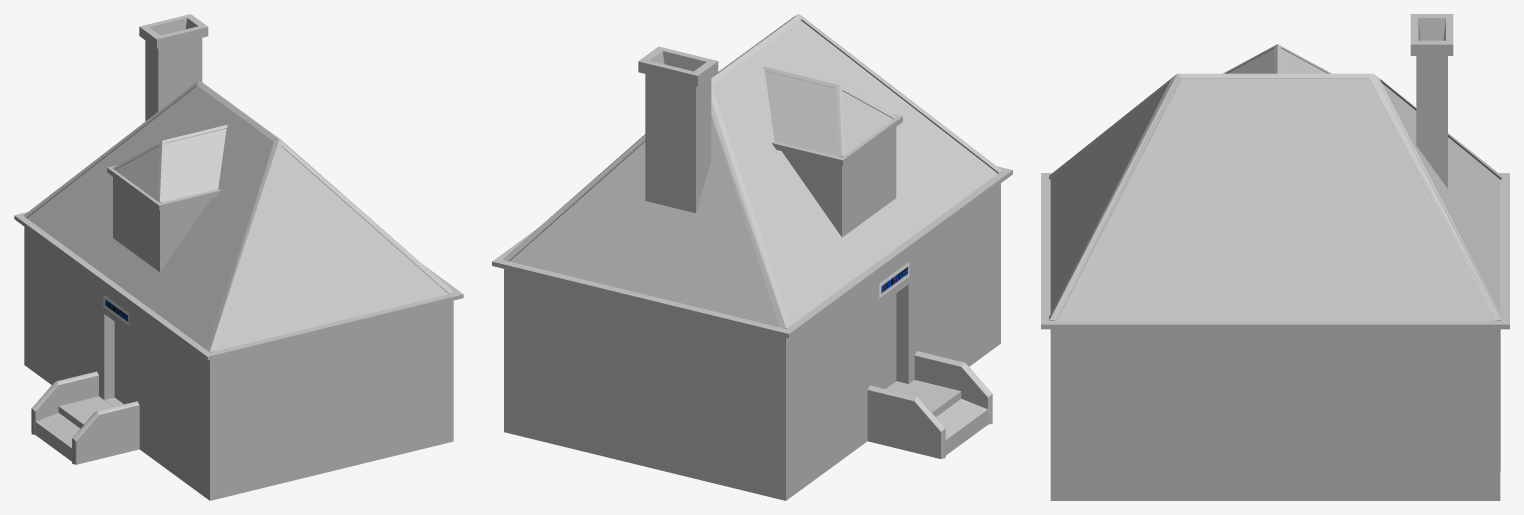
Rendered from BVR House_Parisian Zone_Static.FBX.
3 views of the same model, side by side, from view 1: azimuth 30°, elevation 25°; view 2: azimuth 150°, elevation 25°; view 3: azimuth 270°, elevation 25° (orthographic). The views are drawn at different scales.
Visible parts, largest first — view 1: BVR House_Parisian Zone_Static; view 2: BVR House_Parisian Zone_Static; view 3: BVR House_Parisian Zone_Static.
Part boxes in pixels (<box>): BVR House_Parisian Zone_Static: <box>14,14,463,500</box>; BVR House_Parisian Zone_Static: <box>492,14,1012,500</box>; BVR House_Parisian Zone_Static: <box>1041,14,1509,500</box>.
Bounding box in the file's own units: 3.54 × 3.53 × 3.76.
